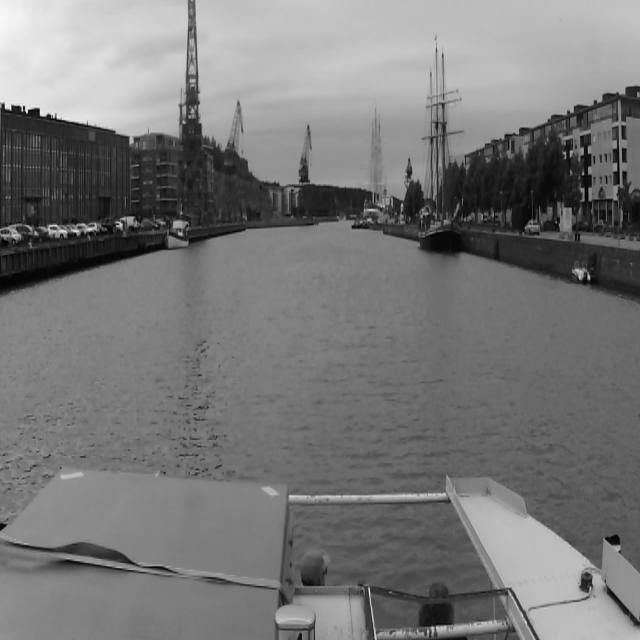ship: (407, 39, 469, 258), (364, 105, 388, 223), (166, 209, 190, 249)
